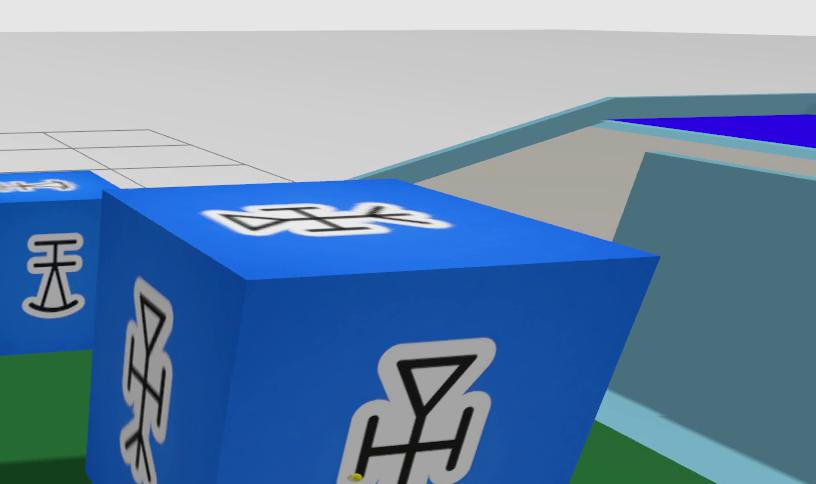KFS_REAL: (87, 179, 657, 484), (336, 338, 495, 484), (0, 170, 118, 353), (119, 276, 174, 484), (202, 202, 450, 236), (23, 233, 85, 318)
